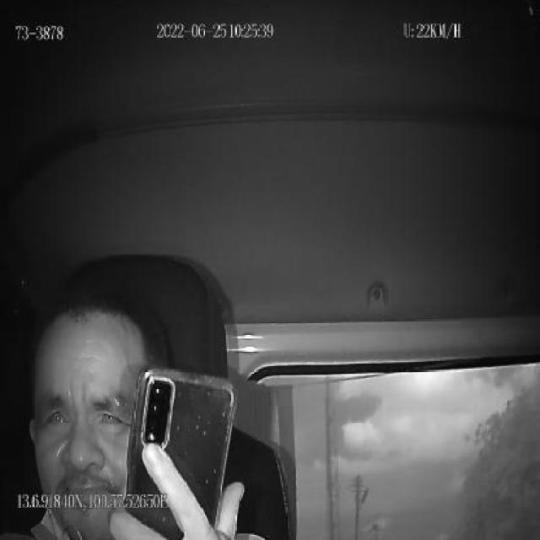phone: (122, 363, 234, 540)
